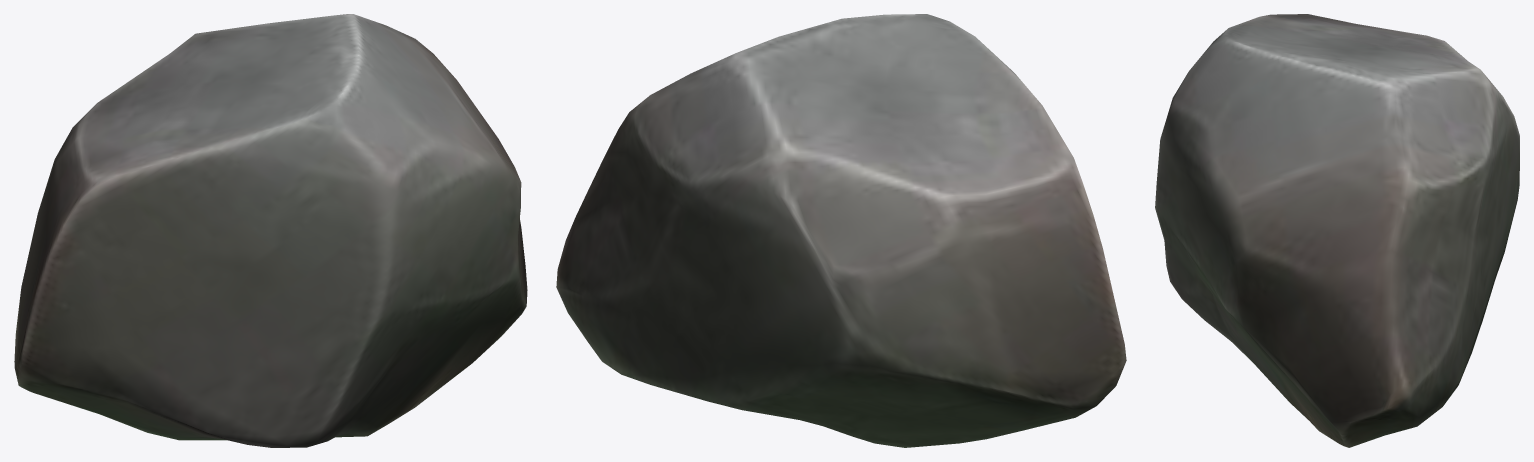
The model's file is sp-stein-2.glb.
The picture shows the model from 3 angles, left to right: view 1: azimuth 30°, elevation 25°; view 2: azimuth 150°, elevation 25°; view 3: azimuth 270°, elevation 25°; orthographic projection. The views are drawn at different scales.
Parts seen in each view (by area): view 1: sp-stein-2; view 2: sp-stein-2; view 3: sp-stein-2.
Boxes of the visible parts, x1,y1,x2,y2 form: sp-stein-2: (14,14,527,447); sp-stein-2: (556,14,1126,447); sp-stein-2: (1155,14,1519,447).
Size of the model in its own units: 1.76 by 1.22 by 1.17.
Materials: 1 (1 with a texture image).
